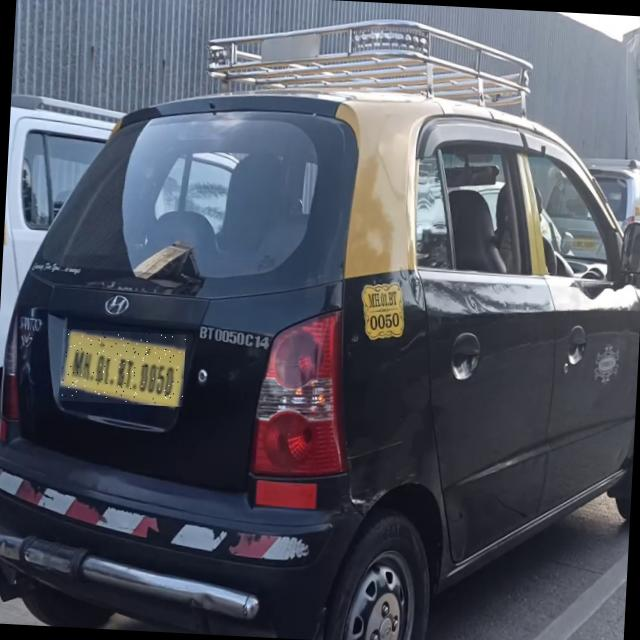Plate: (60, 330, 187, 408)
